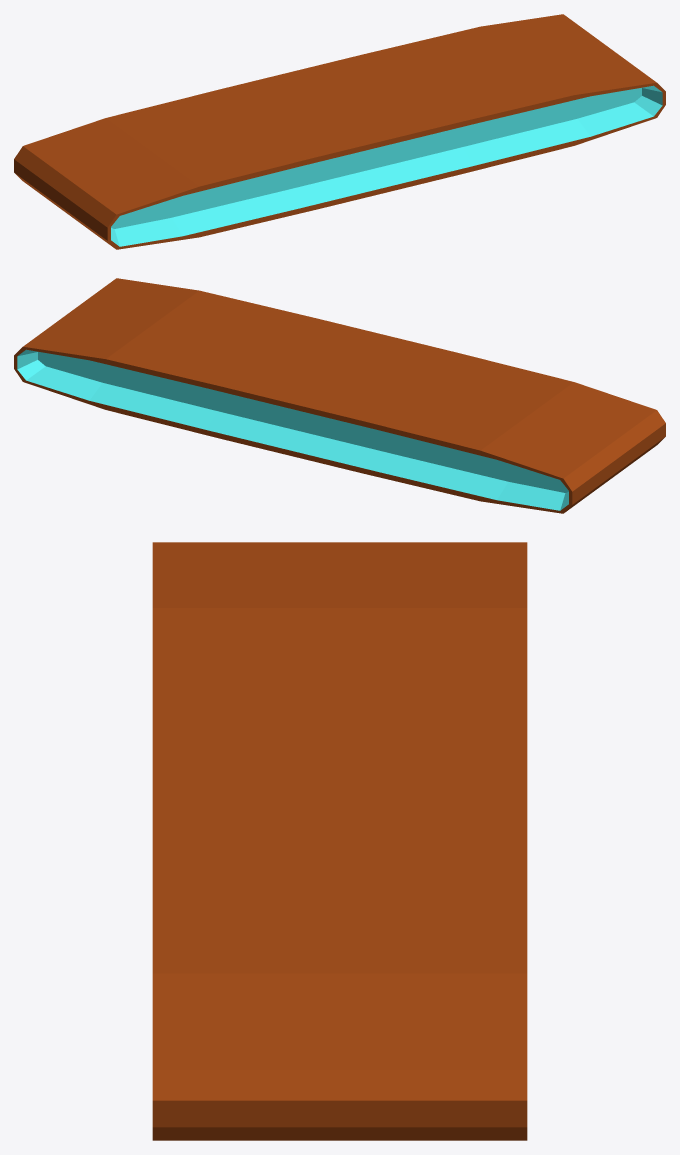
The model's file is Conveyor.glb.
3 views of the same model, one above another, from view 1: azimuth 30°, elevation 25°; view 2: azimuth 150°, elevation 25°; view 3: azimuth 270°, elevation 25° (orthographic). The views are drawn at different scales.
Visible parts, largest first — view 1: Cube; view 2: Cube; view 3: Cube.
Part boxes in pixels (bbox=[...]): Cube: bbox=[14, 14, 665, 249]; Cube: bbox=[14, 278, 665, 513]; Cube: bbox=[152, 542, 527, 1140].
Size of the model in its own units: 22.27 by 2 by 6.47.
Materials: 1 (1 with a texture image).
